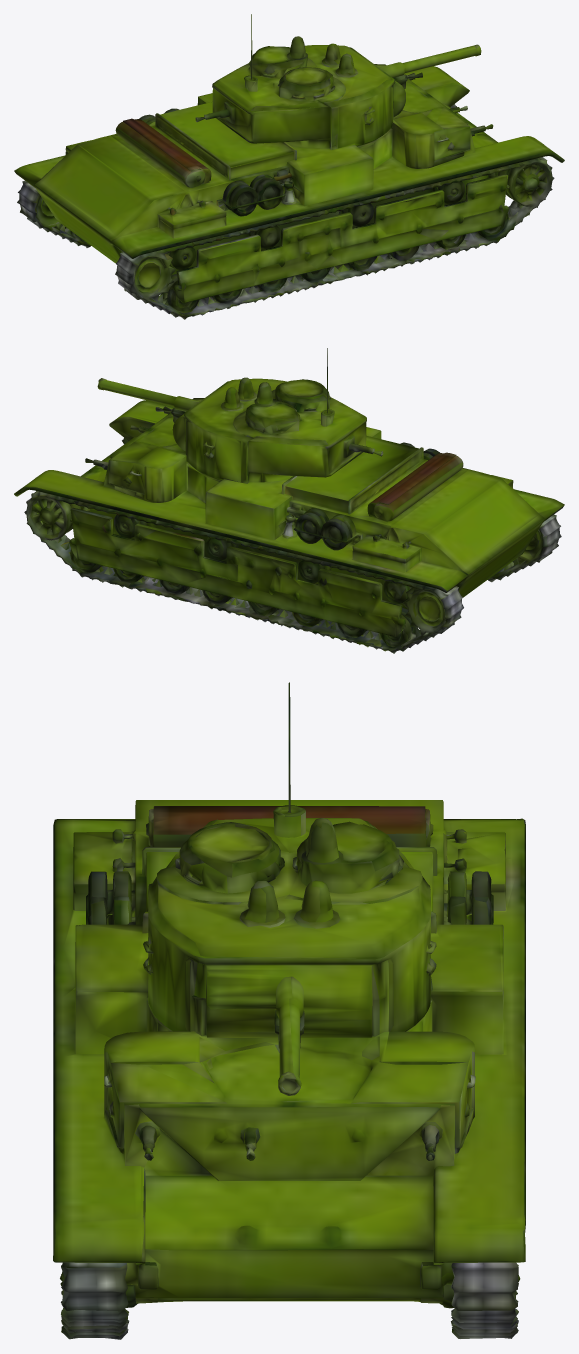
File: t28_opt.glb
3 renders of one model, top to bottom at view 1: azimuth 30°, elevation 25°; view 2: azimuth 150°, elevation 25°; view 3: azimuth 270°, elevation 25°, orthographic. The views are drawn at different scales.
Parts seen in each view (by area): view 1: node_0; view 2: node_0; view 3: node_0.
Part boxes in pixels (x1,y1,x2,y2): node_0: [14, 14, 564, 319]; node_0: [14, 348, 564, 653]; node_0: [53, 682, 525, 1339].
Bounding box in the file's own units: 1.05 × 0.5445 × 0.4944.
1 material, 1 textured.
